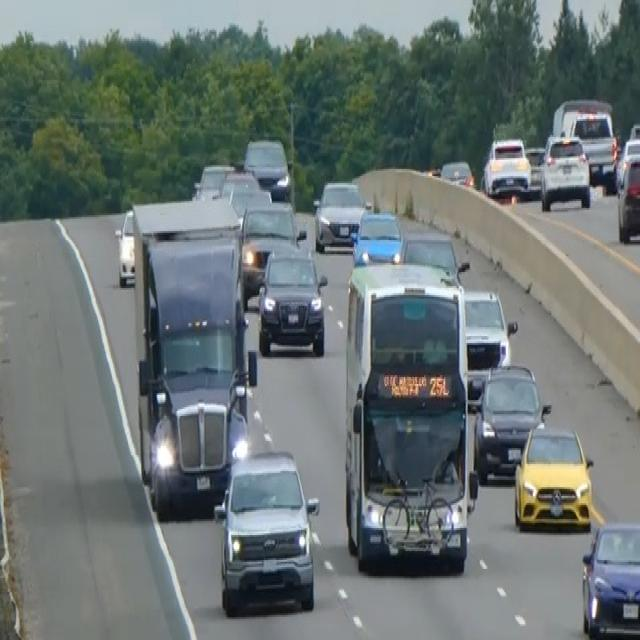bus: (342, 258, 477, 574)
car: (473, 361, 549, 482), (513, 419, 594, 532), (352, 207, 464, 284), (256, 244, 327, 358), (580, 518, 639, 638), (238, 198, 306, 300), (462, 286, 516, 370), (539, 132, 591, 212), (312, 176, 367, 251), (482, 133, 531, 199), (243, 135, 291, 199), (351, 206, 403, 265), (218, 167, 271, 224), (616, 153, 639, 242), (114, 206, 136, 286), (193, 160, 235, 199), (615, 132, 639, 190), (439, 156, 474, 188)
jeep: (212, 444, 321, 617)
lorry: (128, 194, 255, 514)
motorcycle: (377, 466, 467, 567)
truck: (551, 96, 618, 188)
